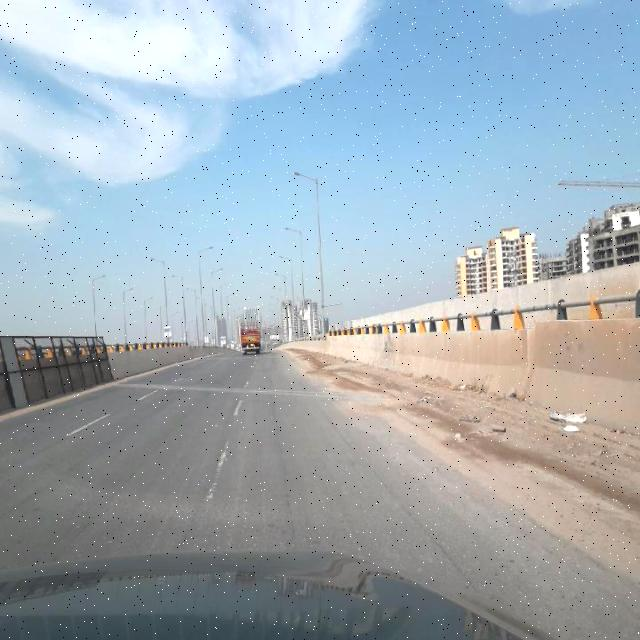D44: (212, 419, 242, 512)
